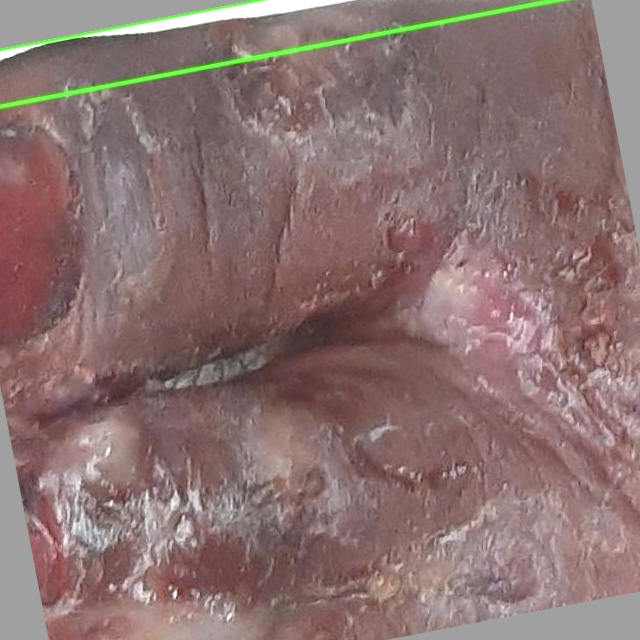Eczema: (0, 0, 555, 106)
